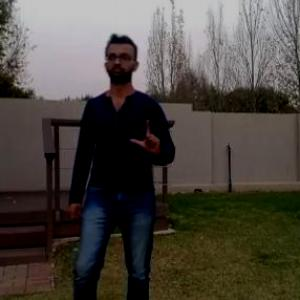land_hand: (120, 111, 162, 161)
